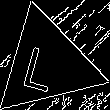L_N: (26, 36, 69, 92)
